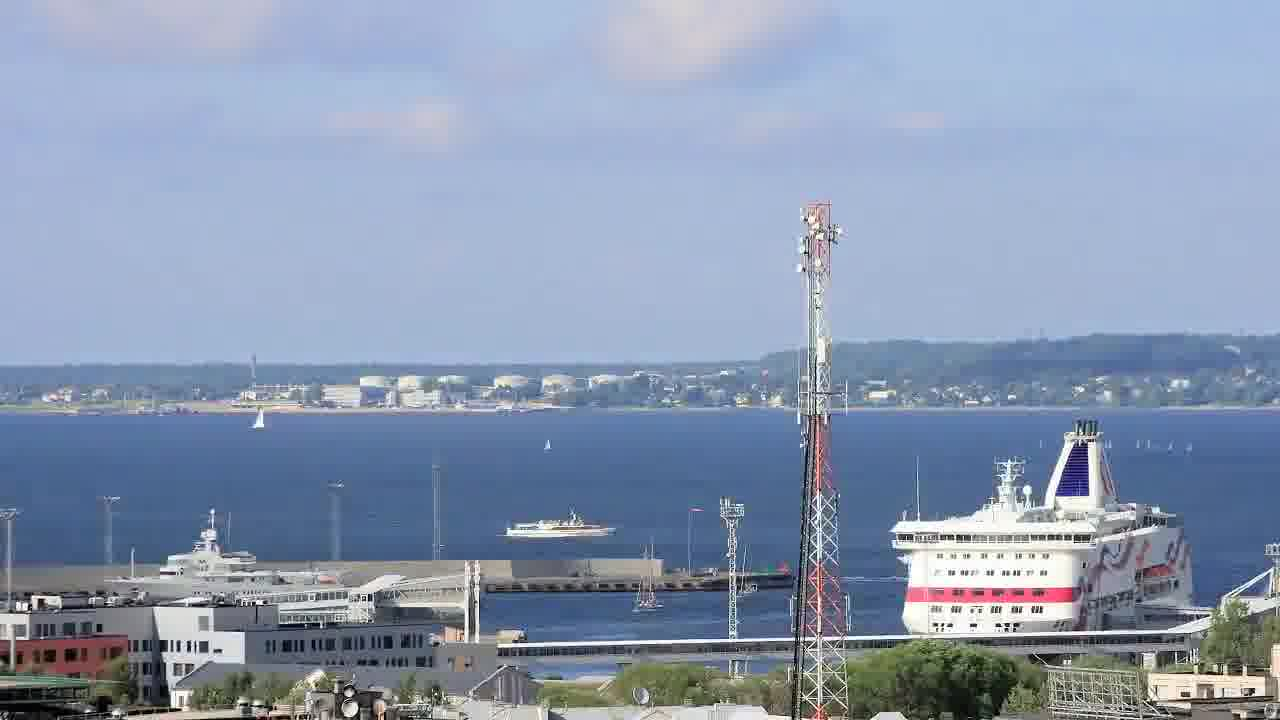type-0: (621, 578, 683, 622)
type-1: (493, 495, 636, 557)
type-2: (245, 395, 285, 445)
type-3: (868, 415, 1225, 638), (84, 537, 359, 610)
